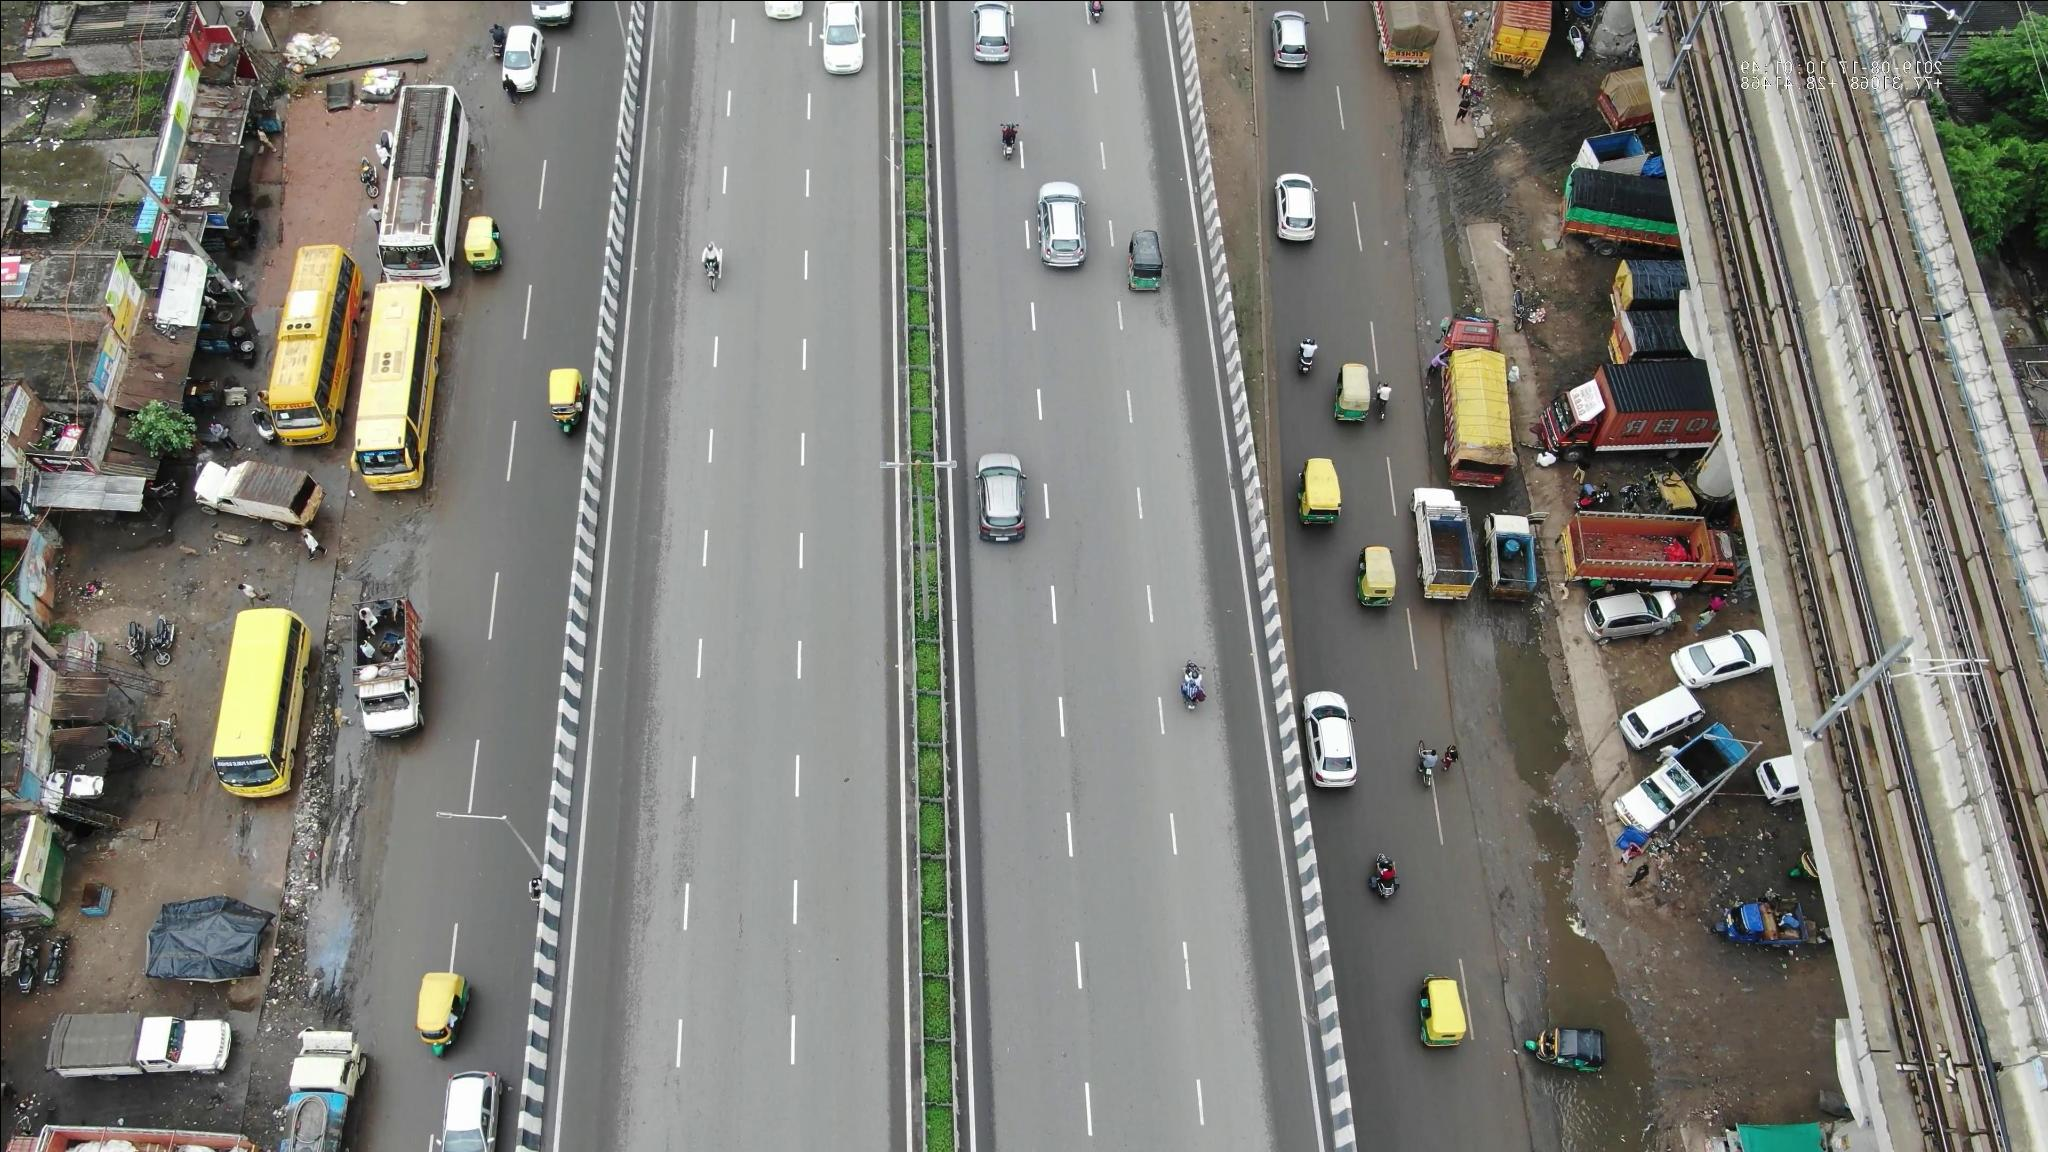Waterlogging: (276, 755, 390, 997), (1485, 654, 1571, 871), (1388, 136, 1457, 328), (1522, 893, 1616, 1016)
